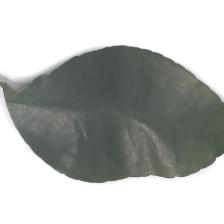healthy: (20, 57, 208, 182)
